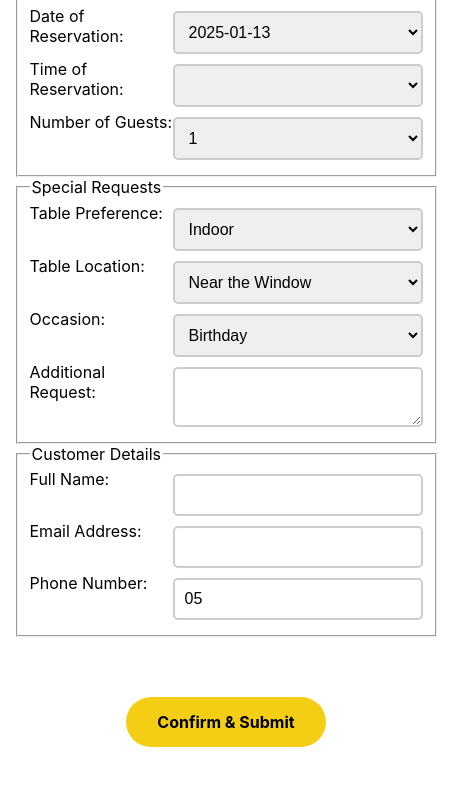
Test case: BookingForm Component › shows error messages when form is invalid
(page scrolled)
Click the button "Confirm & Submit": (226, 722) [126, 697, 326, 747]
(page scrolled)
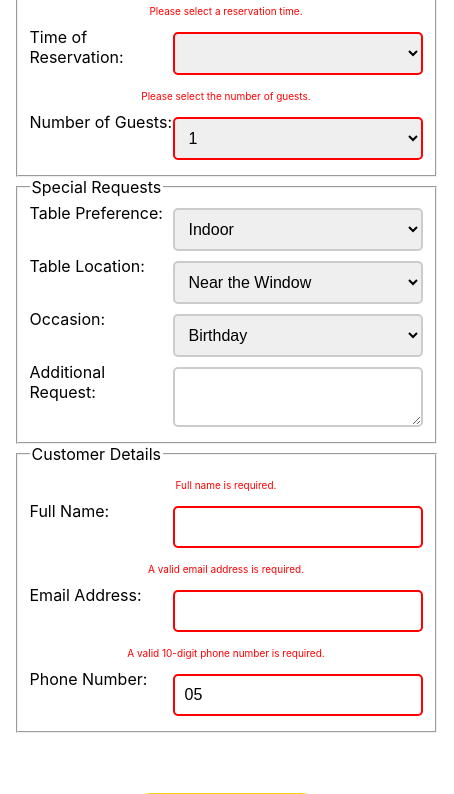
Expected: the text "Please select a reservation time." is shown, [150, 5, 303, 17]
Expected: the text "Please select the number of guests." is shown, [141, 90, 311, 102]
Expected: the text "Full name is required." is shown, [176, 479, 276, 491]
